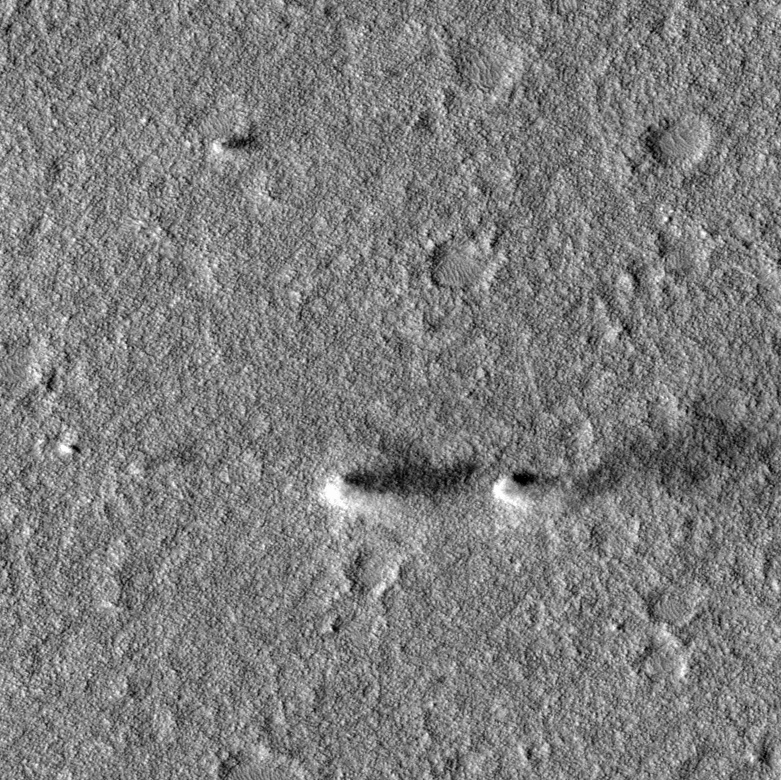dust_devil: (487, 408, 775, 513), (320, 453, 485, 513), (207, 131, 264, 158)
